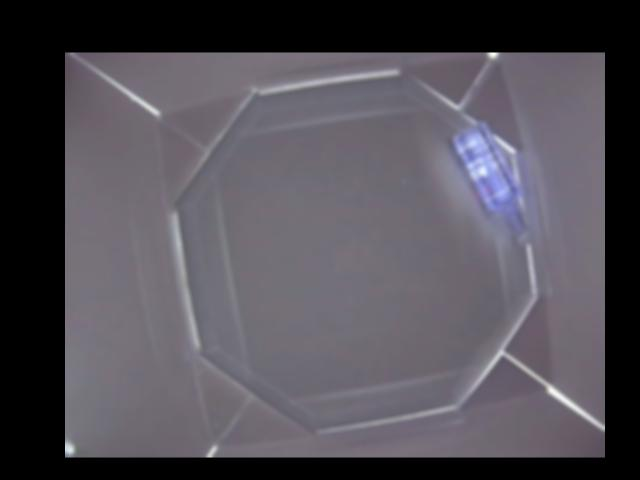Bottle: (451, 123, 530, 245)
